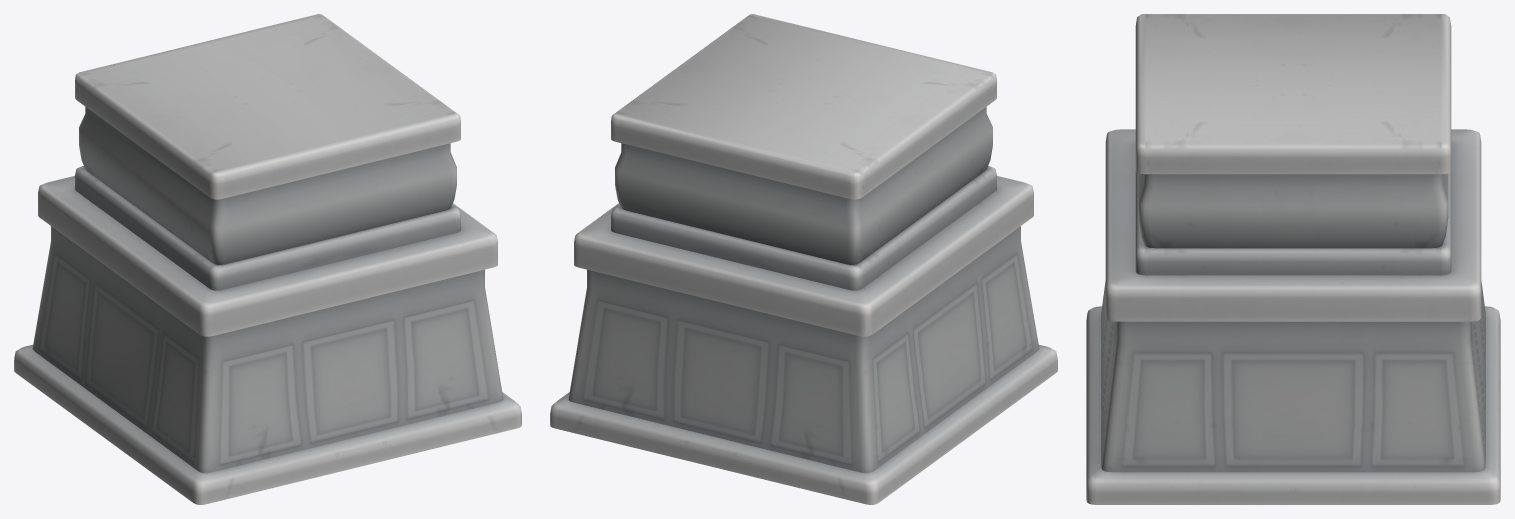
The model's file is ParkPedestal01_4.FBX.
The picture shows the model from 3 angles, left to right: view 1: azimuth 30°, elevation 25°; view 2: azimuth 150°, elevation 25°; view 3: azimuth 270°, elevation 25°; orthographic projection. The views are drawn at different scales.
Parts seen in each view (by area): view 1: ParkPedestal01_4; view 2: ParkPedestal01_4; view 3: ParkPedestal01_4.
Part boxes in pixels (box(x1,y1,x2,y2)): ParkPedestal01_4: box(14, 14, 521, 504); ParkPedestal01_4: box(550, 14, 1057, 504); ParkPedestal01_4: box(1086, 14, 1500, 504).
Size of what is drawn, in the model's own units: 1.13 by 1 by 1.11.
